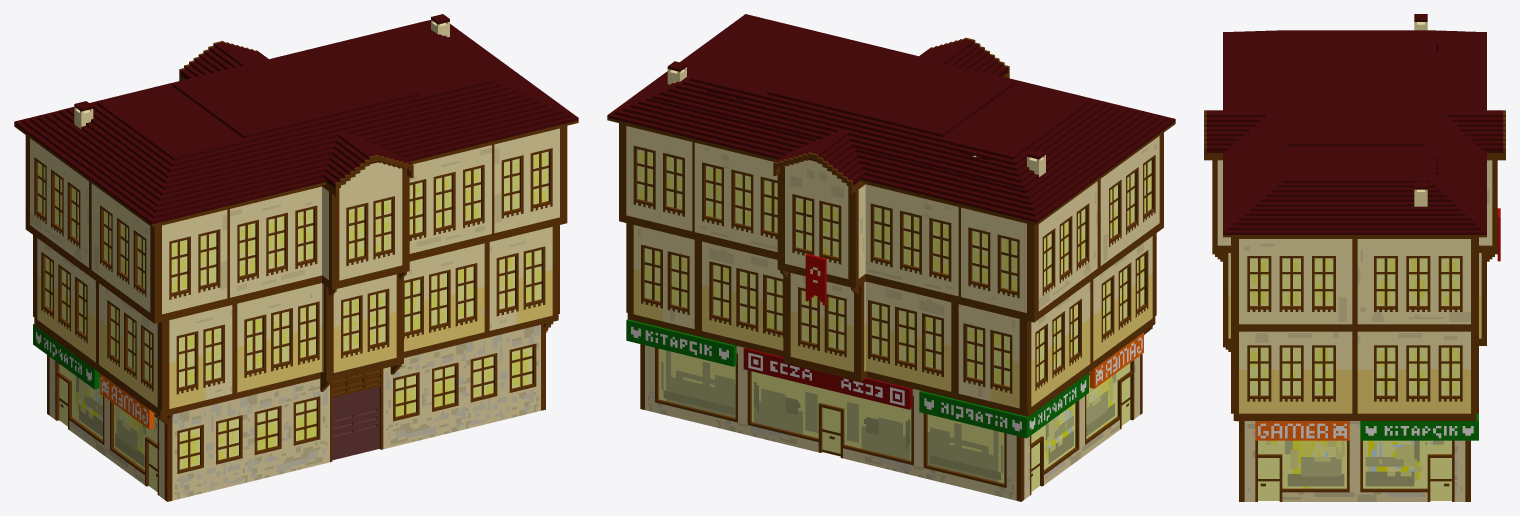
3 renders of one model, left to right at view 1: azimuth 30°, elevation 25°; view 2: azimuth 150°, elevation 25°; view 3: azimuth 270°, elevation 25°, orthographic. The views are drawn at different scales.
Parts seen in each view (by area): view 1: VOX; view 2: VOX; view 3: VOX.
Part boxes in pixels (box(x1,y1,x2,y2)): VOX: box(14, 14, 578, 501); VOX: box(607, 14, 1175, 501); VOX: box(1204, 14, 1505, 501).
Size of the model in its own units: 0.176 by 0.128 by 0.112.
